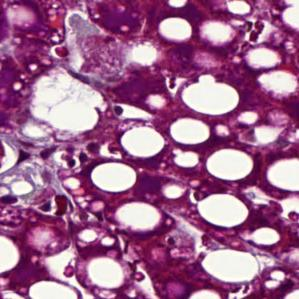ballooning: (27, 63, 109, 136)
